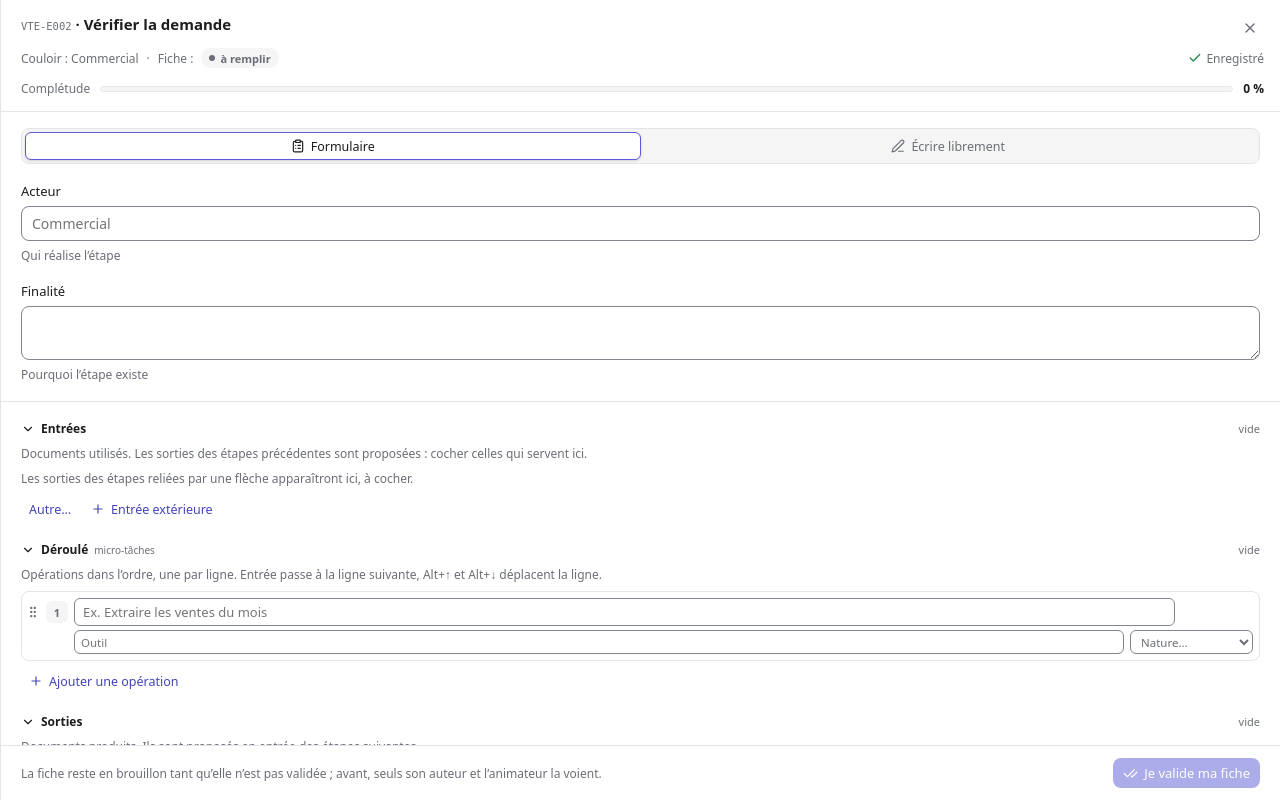
Test: the validation (B-4-51 to B-4-53) › closed on an empty sheet until something is typed; once validated, the foot says by whom and when at once (B-4-52, B-4-54)
Expected: the button "Je valide ma fiche" is disabled, [1113,758,1260,788]
Type "Facturer" into the text box with test id "sheet-purpose".
click(640, 333); type("Facturer")  # box [21,306,1260,360]
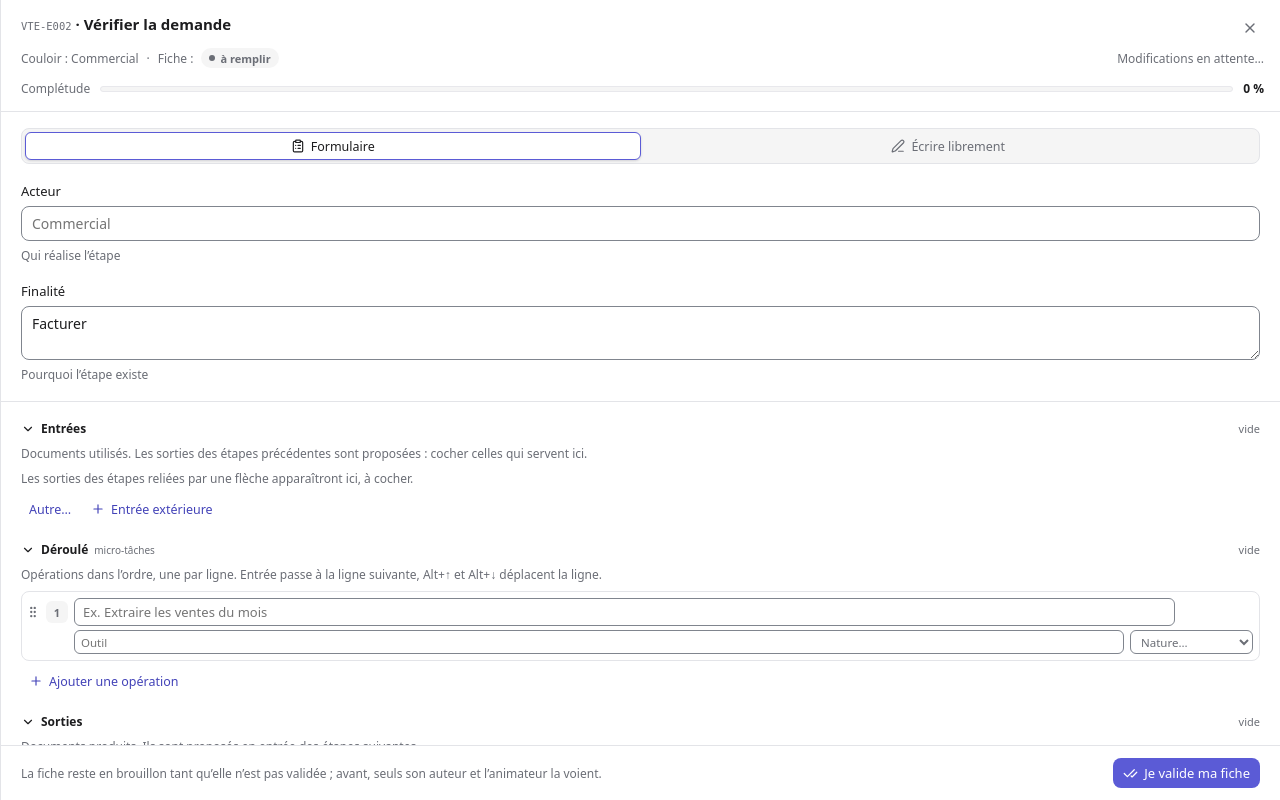
Click the button "Je valide ma fiche".
click(1187, 773)  # box [1113,758,1260,788]
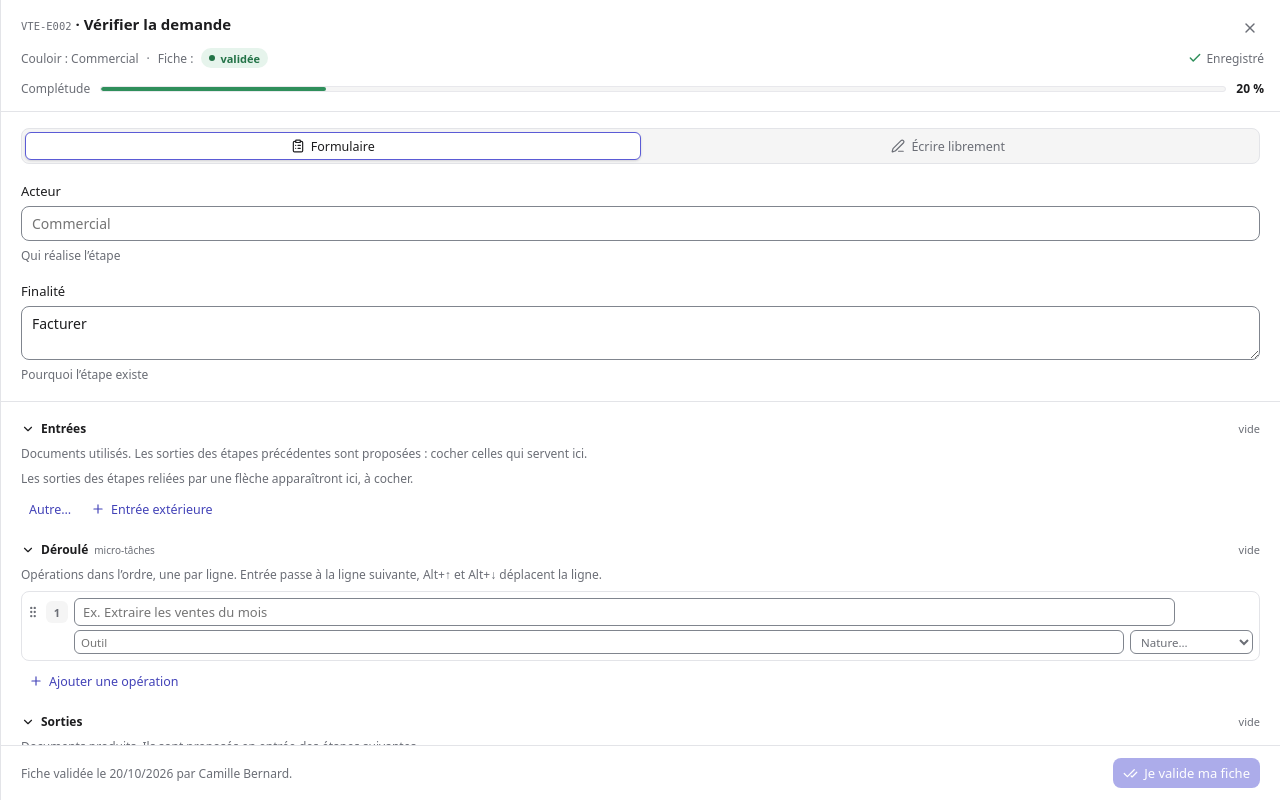
Expected: the text with test id "sheet-state" reads "validée", [220,50,260,66]
Expected: the text with test id "sheet-foot-text" reads "Fiche validée le 20/10/2026 par Camille Bernard.", [21,764,292,782]
